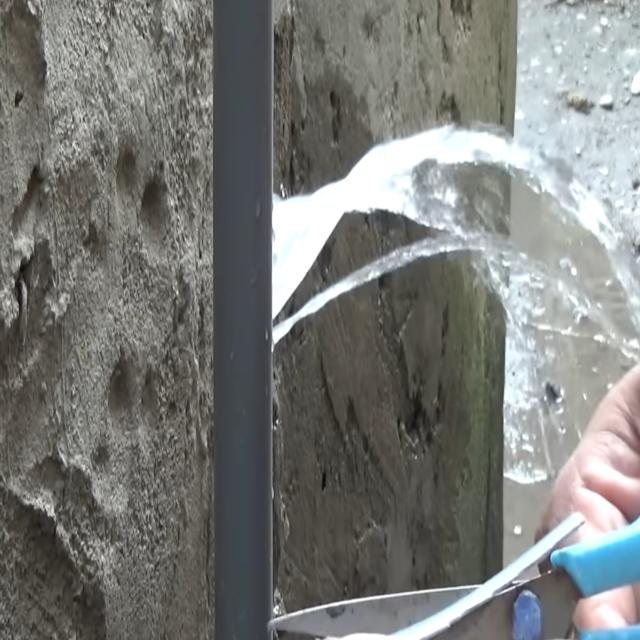leak: (272, 127, 640, 480)
